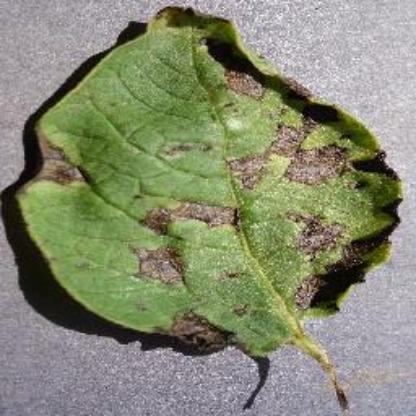Early-Blight: (16, 7, 410, 393)
